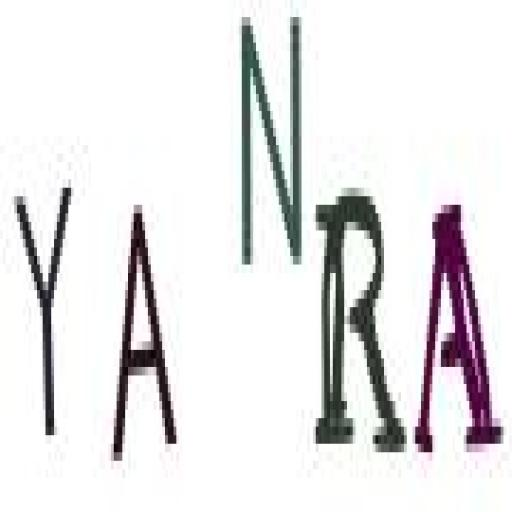A: (411, 184, 508, 478), (106, 196, 180, 471)
N: (230, 2, 304, 274)
R: (308, 167, 411, 478)
Y: (13, 171, 78, 459)
